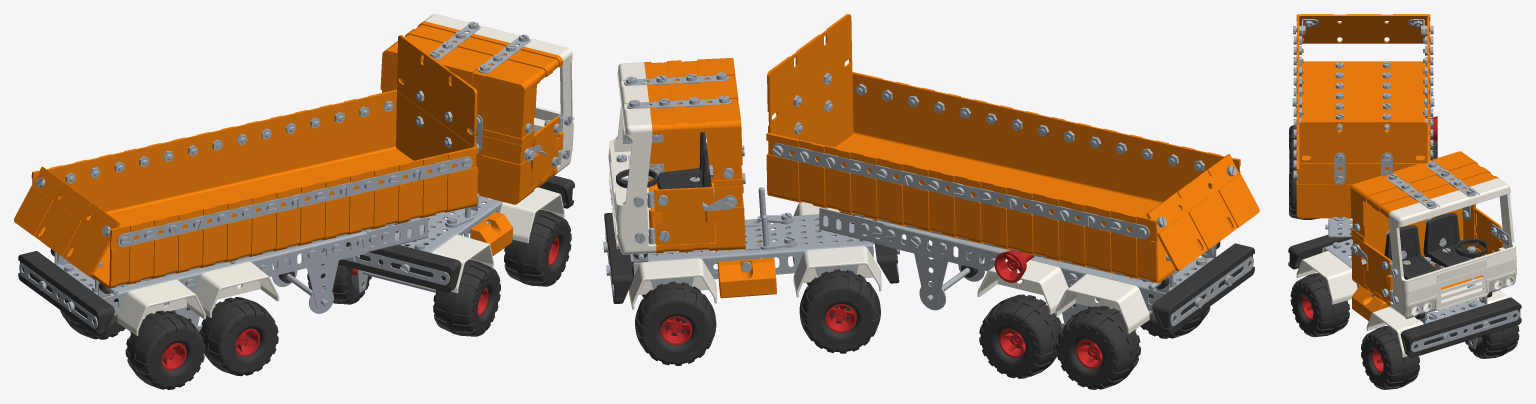
The model's file is Auflieger unten.glb.
3 renders of one model, left to right at view 1: azimuth 30°, elevation 25°; view 2: azimuth 150°, elevation 25°; view 3: azimuth 270°, elevation 25°, orthographic. The views are drawn at different scales.
Visible parts, largest first — view 1: LKW Mittelteil (×7), Reifen 54 x 10 x 31 (×6), LKW Rückwand (×3), LKW Ladeklappe (×2), Kotflügel (×4), Stoßstange (×3), Winkelplatte 5 x 11 (×3), LKW Mittelsegment flach 40, Frontscheibe LKW, Lochband 15 gebogen, Langlochband 11 (×2), Lochband 15 (+5 smaller); view 2: LKW Mittelteil (×7), Reifen 54 x 10 x 31 (×5), LKW Ladeklappe (×2), LKW Rückwand (×3), Kotflügel (×4), Winkelplatte 5 x 11 (×3), Stoßstange (×3), Tür (×2), Frontscheibe LKW, LKW Mittelsegment flach 40 (×2), Nabe Breitreifen alt rot (×5), Lochband 15 gebogen (+7 smaller); view 3: LKW Ladeklappe (×2), LKW Mittelteil (×4), LKW Rückwand (×3), Reifen 54 x 10 x 31 (×4), Frontscheibe LKW, Stoßstange (×2), Kühlergrill LKW, Sitz (×4), LKW Mittelsegment flach 40 (×2), Kotflügel (×2), Tür (×2), Langlochband 11 (+7 smaller).
Part boxes in pixels (x1,y1,x2,y2): LKW Mittelteil (×7): (31,94,454,288); Reifen 54 x 10 x 31 (×6): (60,210,571,389); LKW Rückwand (×3): (375,41,536,211); LKW Ladeklappe (×2): (14,35,477,276); Kotflügel (×4): (117,187,564,335); Stoßstange (×3): (18,175,574,336); Winkelplatte 5 x 11 (×3): (71,198,499,314); LKW Mittelsegment flach 40: (397,21,562,84); Frontscheibe LKW: (423,14,574,138); Lochband 15 gebogen: (117,195,301,246); Langlochband 11 (×2): (19,246,449,328); Lochband 15: (293,156,472,207); LKW Mittelteil (×7): (791,77,1240,283); Reifen 54 x 10 x 31 (×5): (635,269,1210,389); LKW Ladeklappe (×2): (767,14,1259,270); LKW Rückwand (×3): (704,58,876,250); Kotflügel (×4): (629,246,1149,333); Winkelplatte 5 x 11 (×3): (707,214,1198,311); Stoßstange (×3): (604,212,1254,334); Tür (×2): (648,132,720,245); Frontscheibe LKW: (608,62,652,219); LKW Mittelsegment flach 40 (×2): (644,59,716,253); Nabe Breitreifen alt rot (×5): (660,250,1102,368); Lochband 15 gebogen: (953,184,1149,239); LKW Ladeklappe (×2): (1299,14,1427,168); LKW Mittelteil (×4): (1296,14,1430,159); LKW Rückwand (×3): (1296,151,1475,288); Reifen 54 x 10 x 31 (×4): (1289,158,1519,389); Frontscheibe LKW: (1388,178,1516,292); Stoßstange (×2): (1288,229,1521,357); Kühlergrill LKW: (1390,258,1516,317); Sitz (×4): (1384,212,1468,279); LKW Mittelsegment flach 40 (×2): (1363,160,1498,307); Kotflügel (×2): (1296,250,1423,357); Tür (×2): (1360,208,1502,301); Langlochband 11: (1410,310,1519,351).
Bounding box in the file's own units: 0.4507 × 0.2036 × 0.1984.
